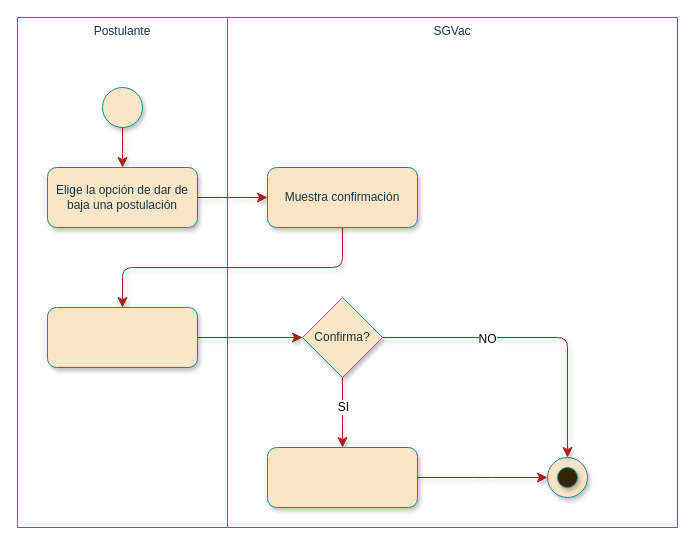
This 695x545 diagram has some shape labels left out. The shapes that lost their labels are listed below. From the top down, each one's centre as x and y in pixels, then its label:
[123,338]: Acepta o cancela
[343,478]: Borra la postulación
